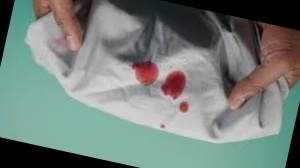blood: (160, 69, 188, 100), (129, 60, 161, 87), (179, 101, 189, 113)
